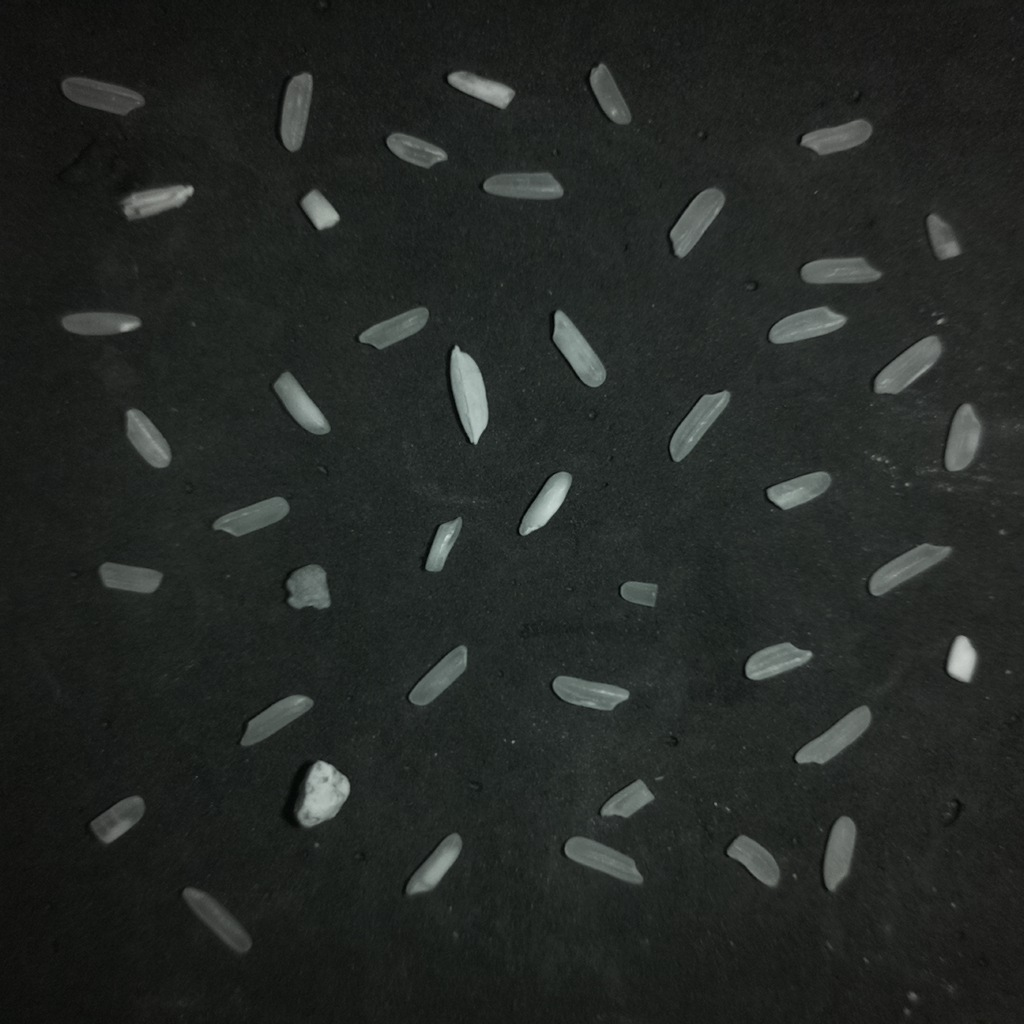broken: (89, 795, 144, 843), (600, 780, 654, 817), (926, 213, 961, 259), (300, 189, 339, 230), (619, 581, 657, 606)
chalky: (552, 310, 605, 387), (405, 833, 462, 895), (273, 371, 329, 434), (519, 471, 571, 535), (768, 307, 846, 344), (126, 408, 171, 468), (552, 676, 628, 710), (744, 642, 812, 680), (446, 71, 514, 108), (766, 472, 831, 509), (424, 517, 462, 572), (946, 635, 977, 682)
foreign: (294, 760, 350, 827), (450, 346, 488, 444), (121, 184, 193, 220), (286, 564, 330, 609)
whole: (182, 887, 251, 953), (794, 705, 871, 763), (868, 543, 950, 596), (669, 391, 730, 461), (873, 335, 941, 393), (669, 188, 724, 257), (563, 836, 642, 884), (408, 645, 468, 706), (240, 695, 313, 745), (61, 77, 144, 115), (212, 496, 289, 536), (358, 307, 429, 350), (727, 834, 780, 887), (800, 119, 872, 155), (589, 63, 631, 124), (822, 816, 856, 891), (279, 74, 312, 151), (944, 403, 981, 471), (800, 257, 881, 284), (482, 172, 563, 199), (386, 133, 445, 168), (98, 562, 162, 593), (62, 311, 140, 335)
